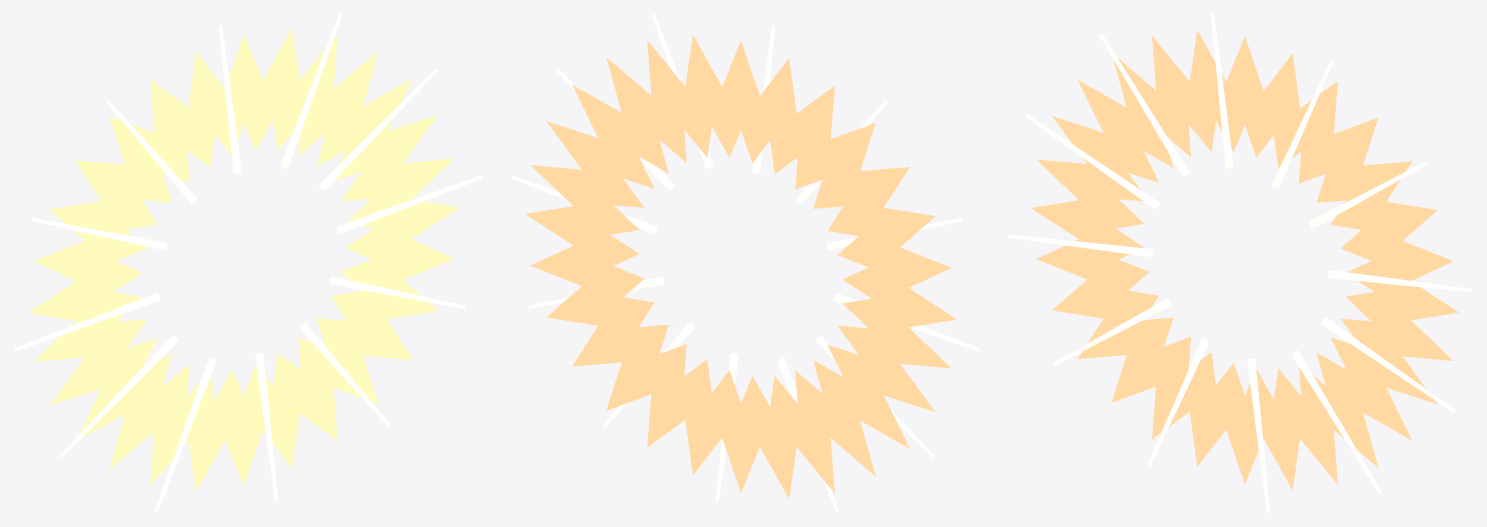
Rendered from VFX_01_大娃_裂地云雷震波.glb.
3 views of the same model, side by side, from view 1: azimuth 30°, elevation 25°; view 2: azimuth 150°, elevation 25°; view 3: azimuth 330°, elevation 25° (orthographic).
Parts seen in each view (by area): view 1: VFX01_Star, Ray_1, Ray_7, Ray_2, Ray_8, Ray_0, Ray_6, Ray_3, Ray_9, Ray_5, Ray_11, Ray_4 (+1 smaller); view 2: VFX01_Star, Ray_0; view 3: VFX01_Star, Ray_4, Ray_10, Ray_5, Ray_11, Ray_3, Ray_9, Ray_0, Ray_6, Ray_2, Ray_8, Ray_1 (+1 smaller).
Boxes of the visible parts, x1,y1,x2,y2 form: VFX01_Star: [28, 28, 459, 491]; Ray_1: [318, 69, 437, 191]; Ray_7: [59, 335, 178, 457]; Ray_2: [280, 14, 342, 168]; Ray_8: [154, 358, 216, 512]; Ray_0: [336, 175, 482, 233]; Ray_6: [14, 293, 160, 351]; Ray_3: [218, 25, 241, 173]; Ray_9: [255, 353, 278, 501]; Ray_5: [31, 218, 167, 250]; Ray_11: [329, 276, 465, 308]; Ray_4: [106, 99, 197, 203]; VFX01_Star: [525, 35, 956, 498]; Ray_0: [511, 175, 657, 233]; VFX01_Star: [1031, 30, 1458, 489]; Ray_4: [1099, 33, 1189, 176]; Ray_10: [1291, 350, 1381, 493]; Ray_5: [1025, 114, 1159, 209]; Ray_11: [1321, 317, 1455, 412]; Ray_3: [1211, 14, 1233, 168]; Ray_9: [1247, 358, 1269, 512]; Ray_0: [1328, 270, 1472, 292]; Ray_6: [1008, 234, 1152, 256]; Ray_2: [1272, 60, 1333, 187]; Ray_8: [1147, 339, 1208, 466]; Ray_1: [1309, 161, 1427, 227].
Size of the model in its own units: 4.21 by 4.21 by 0.102.
